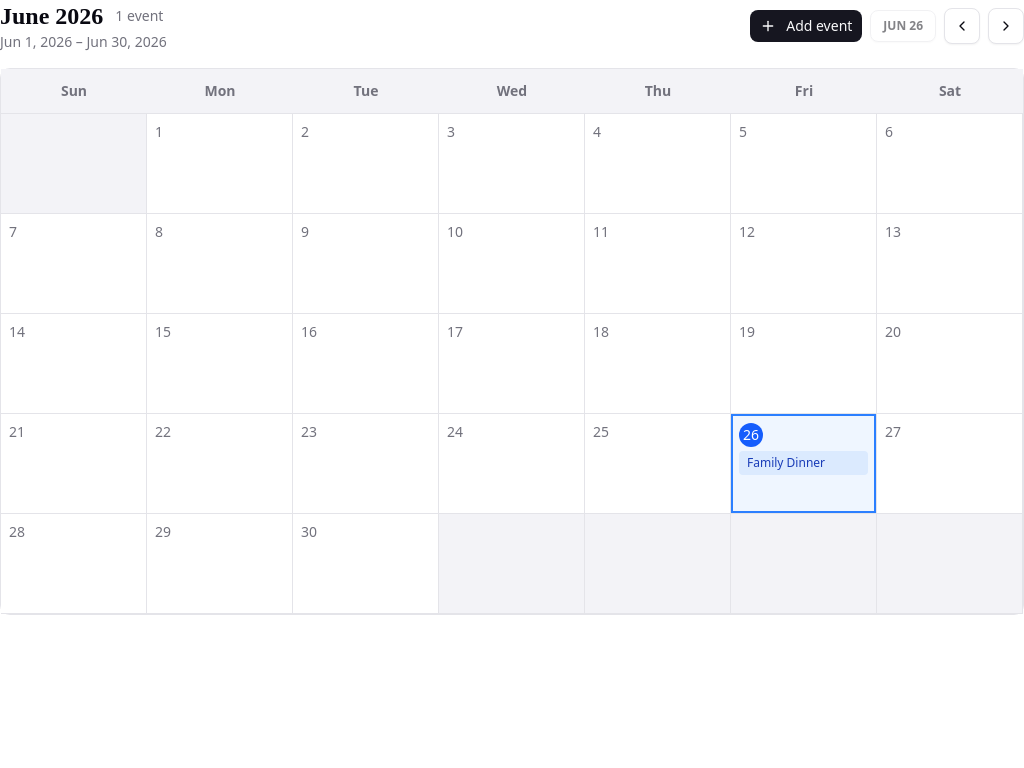
SimpleCalendar › Event click opens detail modal › hides the delete button on read-only calendars (#266)
Click the button "Family Dinner". click: (804, 463)
box: [739, 451, 868, 475]
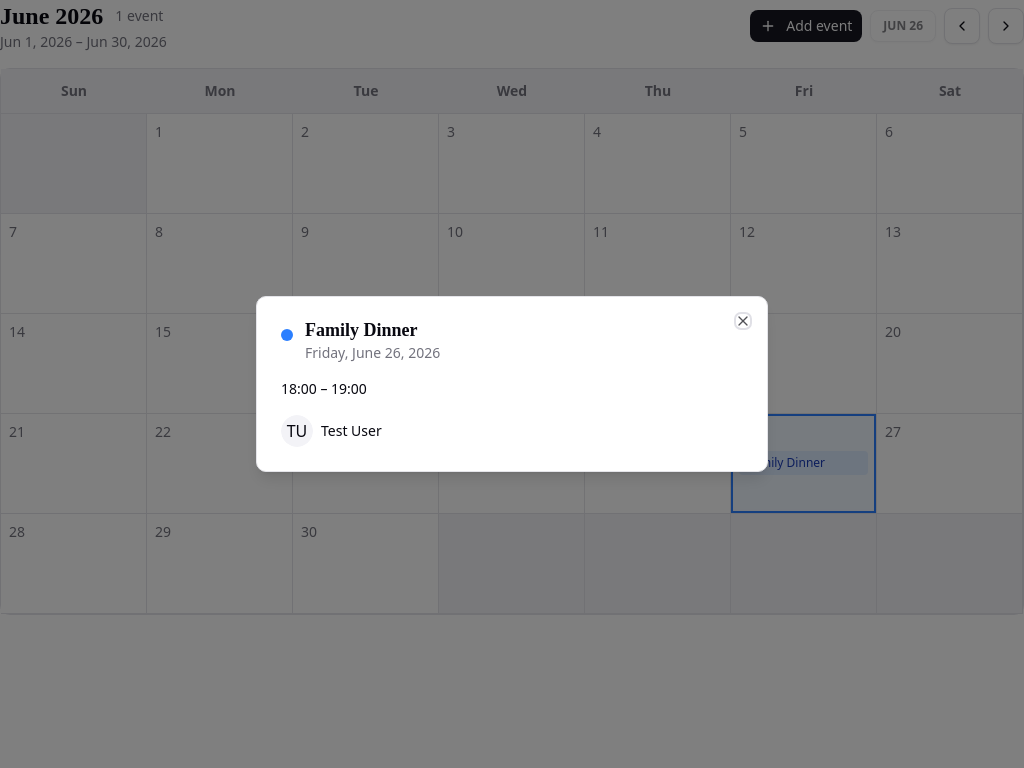
Now the heading "Family Dinner" is shown, box [305, 320, 418, 340]
